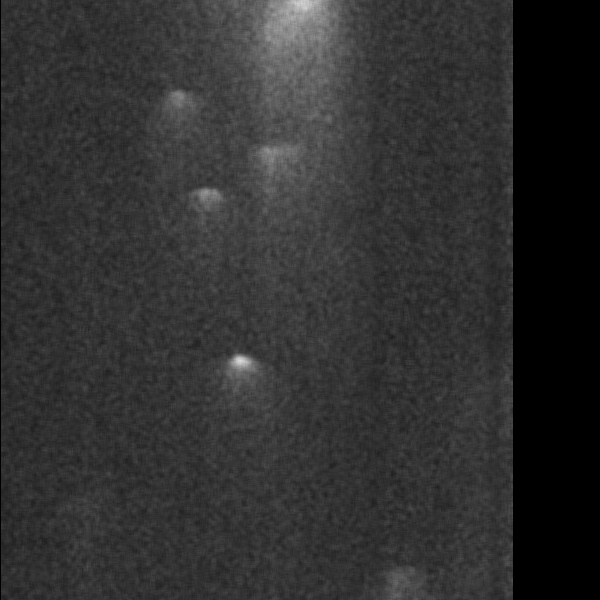spark: (31, 239, 119, 275), (27, 435, 121, 466), (4, 515, 41, 562), (109, 25, 172, 50), (403, 557, 446, 588), (460, 173, 504, 199), (2, 4, 46, 28), (2, 340, 50, 360), (409, 450, 433, 490), (4, 72, 21, 115)
